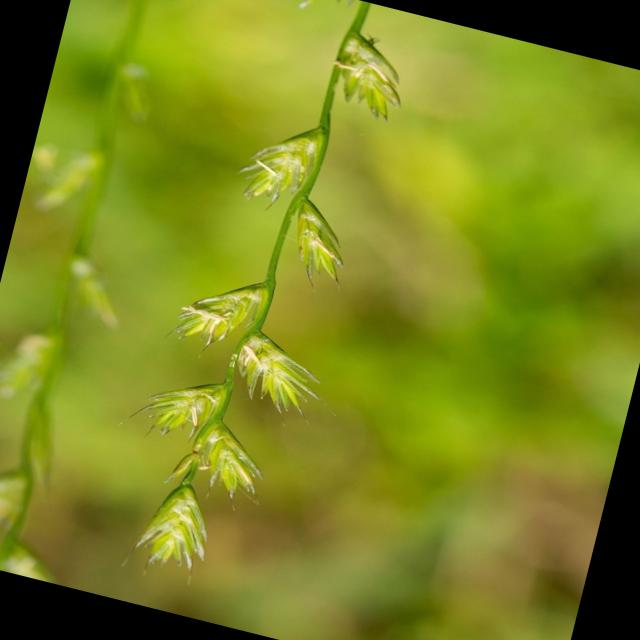Lolium: (87, 0, 427, 610)
